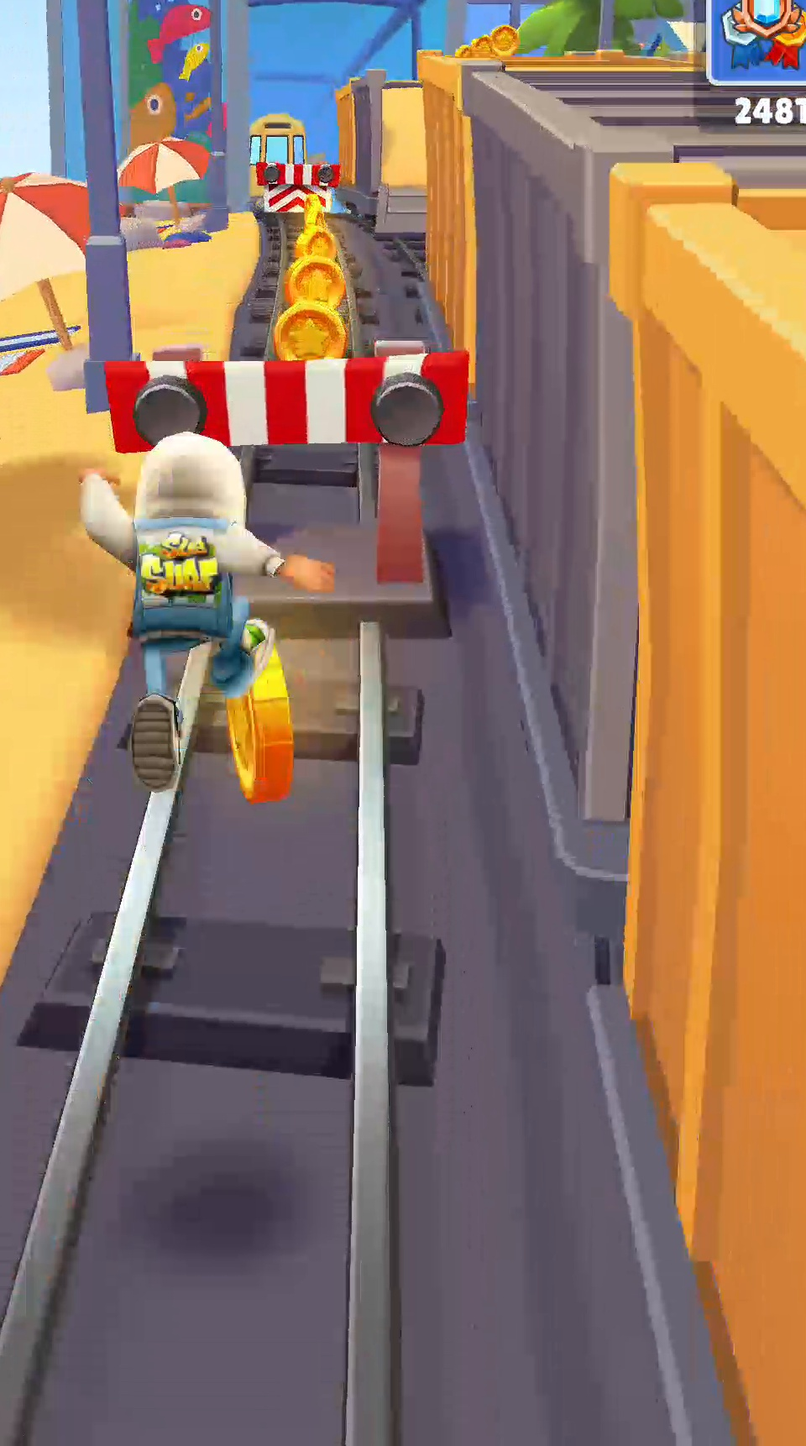blocker: (104, 342, 468, 584)
climber: (377, 83, 427, 235)
roll blocker: (251, 159, 340, 215)
train: (419, 56, 805, 1445), (337, 72, 384, 191), (249, 114, 306, 209)
